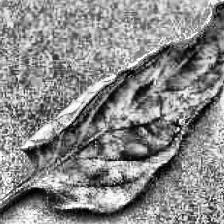leaf mold: (28, 0, 224, 206)
